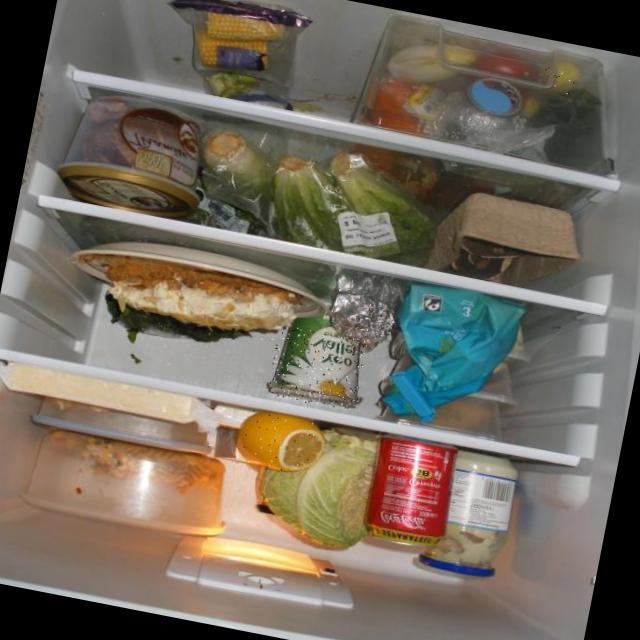Yogur: (266, 324, 370, 412)
